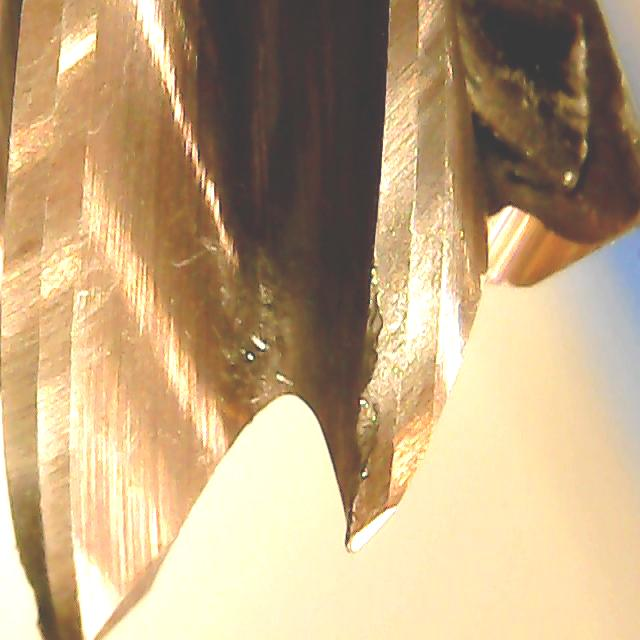Tool-wear-class-1: (324, 289, 471, 574)
